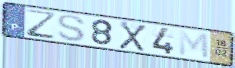4: (151, 26, 176, 56)
8: (91, 19, 115, 47)
M: (178, 28, 211, 61)
S: (56, 14, 87, 43)
X: (118, 20, 148, 53)
Z: (25, 8, 58, 41)
